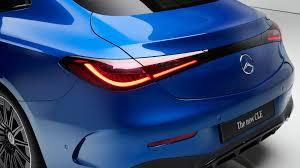mercedes: (229, 50, 264, 77)
